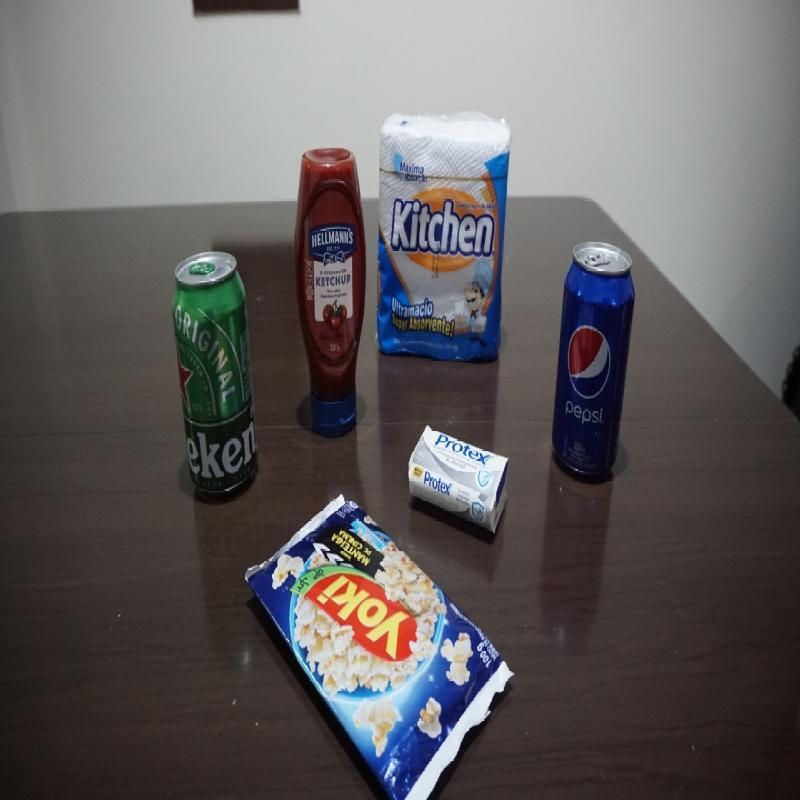Beer can: (168, 248, 261, 504)
Ketchup: (291, 144, 368, 438)
Napkin: (374, 105, 515, 357)
Popcorn: (241, 492, 515, 800)
Soap: (402, 423, 510, 538)
Soda can: (543, 239, 638, 482)
